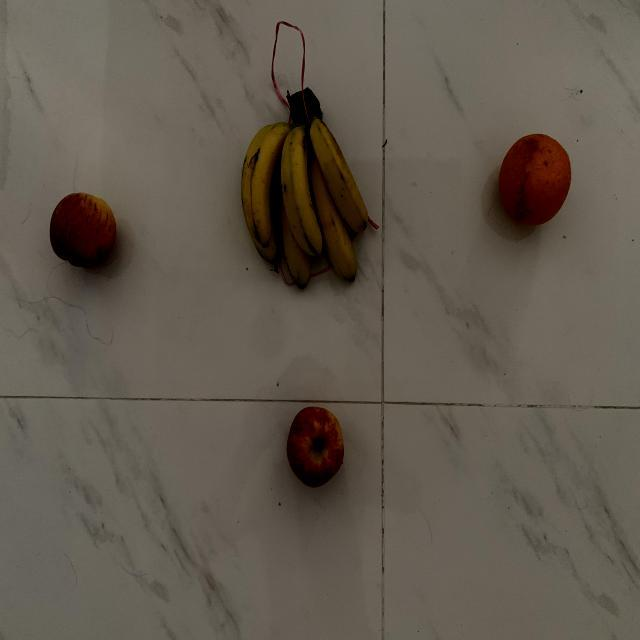apple: (46, 190, 120, 272), (284, 404, 346, 488)
banana: (239, 88, 370, 295)
orange: (492, 130, 576, 228)
